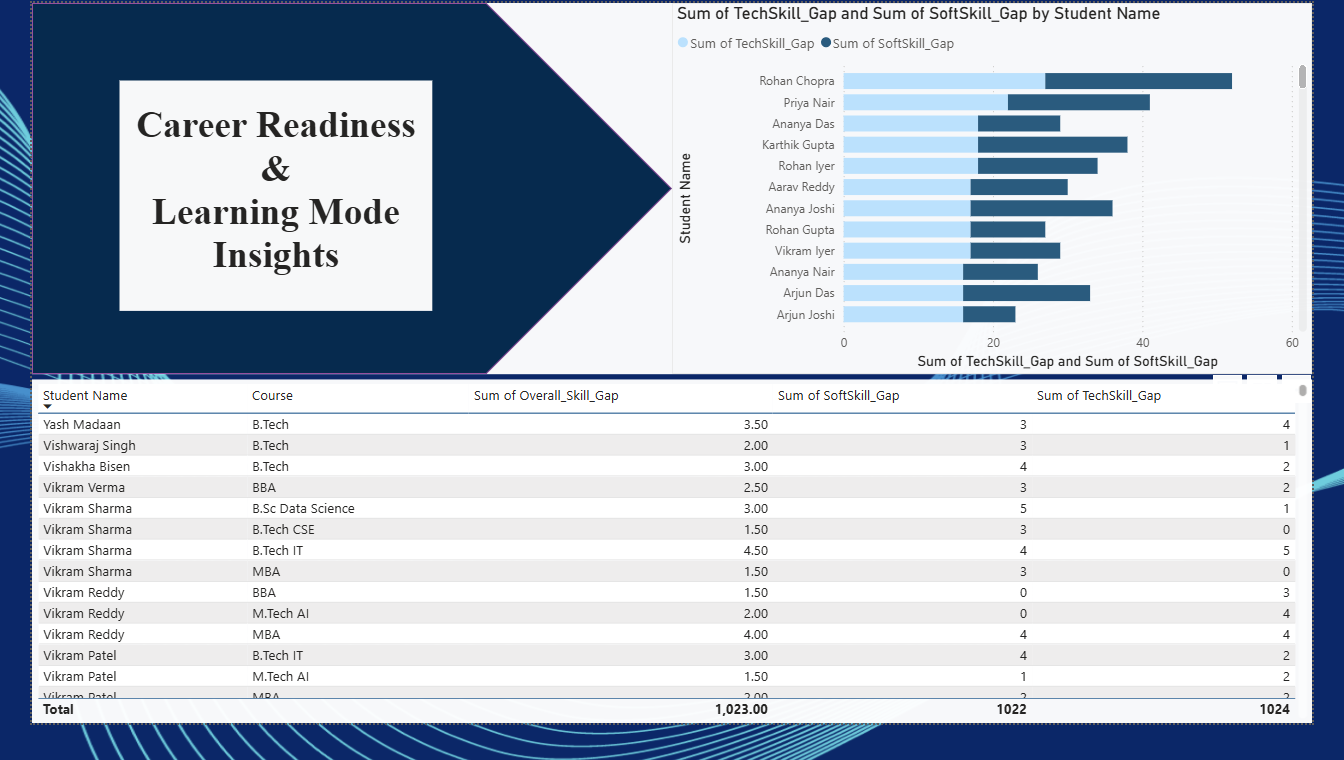

What the dashboard file says about the page in this screenshot:
{"tool":"powerbi","page":{"name":"Page 2","canvas":[1280,720],"ordinal":1},"visuals":[{"type":"barChart","fields":{"Y":["Sum(Studentskillgap.TechSkill_Gap)","Sum(Studentskillgap.SoftSkill_Gap)"],"Category":["Studentskillgap.Student Name"]},"box":[640,0,640,371.4],"z":0},{"type":"tableEx","fields":{"Values":["Studentskillgap.Student Name","Studentskillgap.Course","Sum(Studentskillgap.Overall_Skill_Gap)","Sum(Studentskillgap.SoftSkill_Gap)","Sum(Studentskillgap.TechSkill_Gap)"]},"box":[0,375.7,1280,344.3],"z":1000},{"type":"shape","box":[0,0,640,371],"z":2000},{"type":"textbox","box":[87.1,77.1,312.9,230],"z":3000}]}

Visuals, with their boxes in screenshot pixels (x1, y1, x2, y2), scaled from the page's 1280x720 canvas onto the 1344x760 screenshot:
barChart - Sum(Studentskillgap.TechSkill_Gap) x Sum(Studentskillgap.SoftSkill_Gap): {"x1": 672, "y1": 0, "x2": 1343, "y2": 392}
tableEx - Studentskillgap.Student Name x Studentskillgap.Course: {"x1": 0, "y1": 397, "x2": 1343, "y2": 759}
shape: {"x1": 0, "y1": 0, "x2": 672, "y2": 392}
textbox: {"x1": 91, "y1": 81, "x2": 420, "y2": 324}
